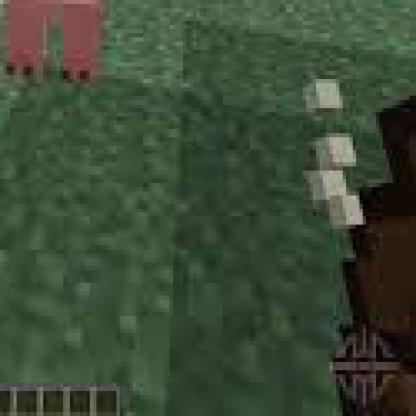minecraft-pigs: (0, 0, 131, 113)
